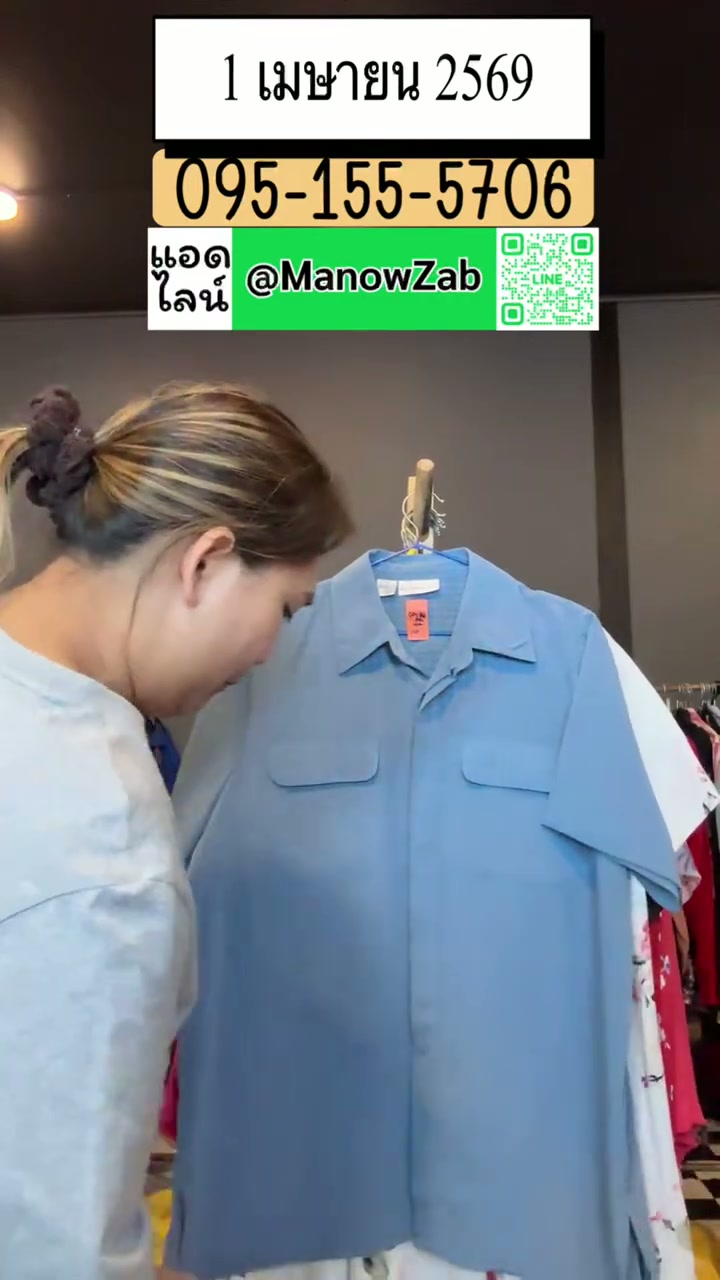display_shirt: (168, 548, 716, 1279)
